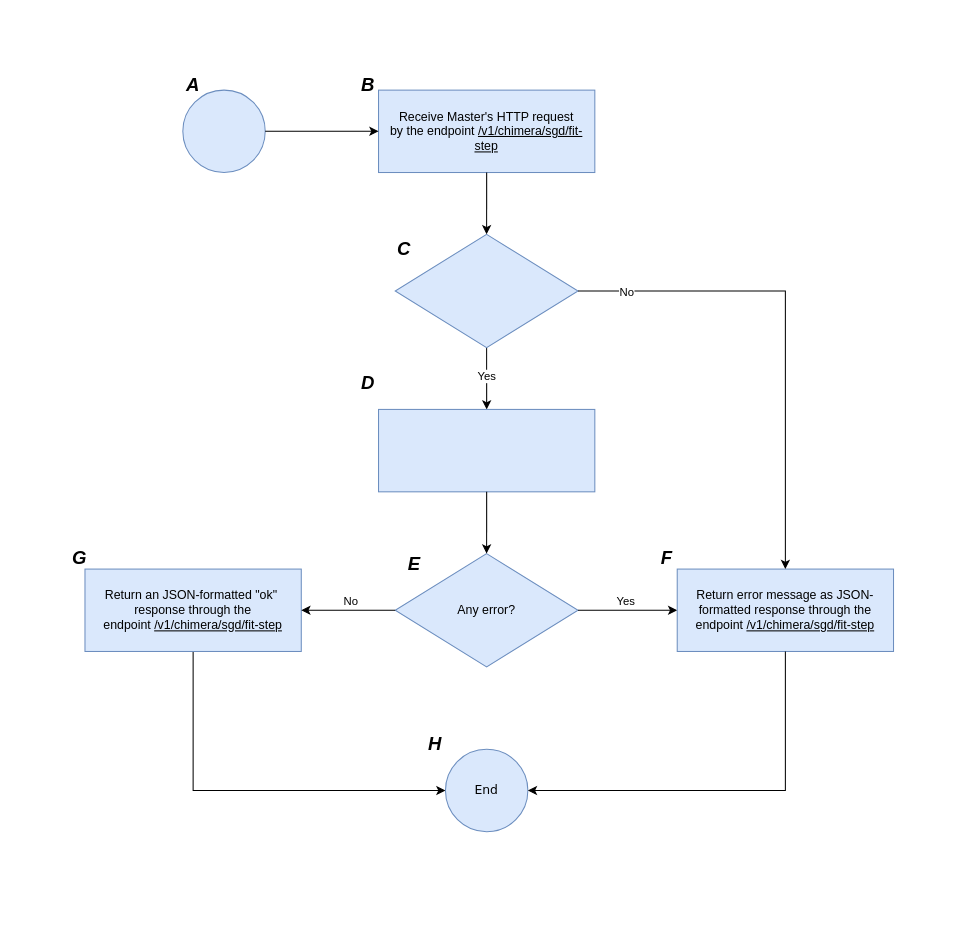
The diagram is 972 pixels wide and 952 high, and some of its shapes have lost their labels. The shapes that lost their labels are listed below. From the top down, each one's centre as x and y in pixels, then its label:
At pixel 223 131: "Beginning".
At pixel 486 290: "Is Worker alive?".
At pixel 486 450: "Run fit step (iteration) on local model using the local dataset".
